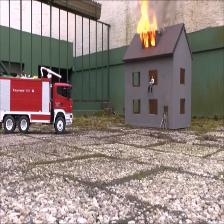fire: (138, 3, 157, 47)
